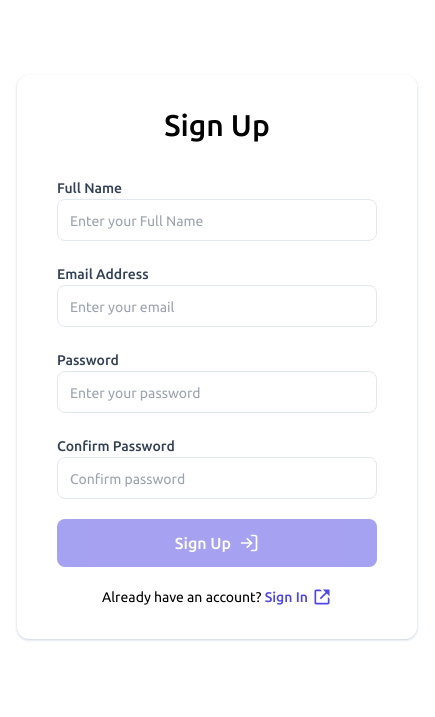
Test: Register Form: › - User Interaction › show errors messages for the inputs
Note: show error messages
In the field labelled "Full Name": coordinates (217, 220) [57, 199, 377, 241], type "john doe"
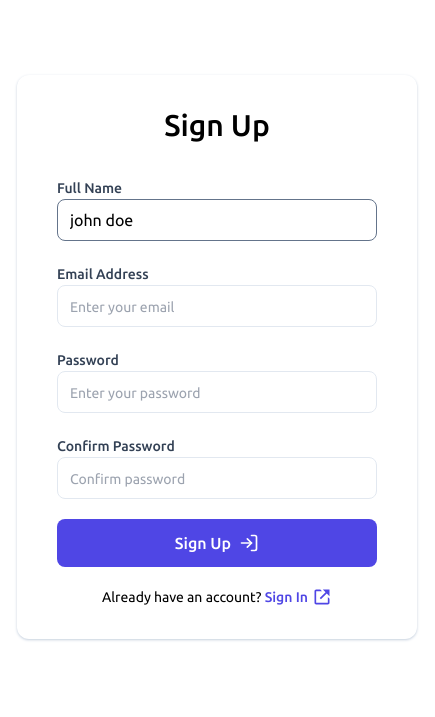
Clear the field labelled "Full Name": coordinates (217, 220) [57, 199, 377, 241]
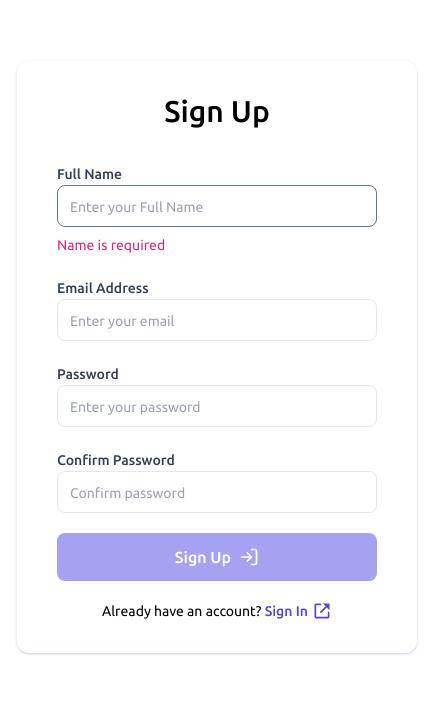
expect the text "Name is required" is shown: met, box [57, 237, 165, 253]
In the field labelled "Email Address": coordinates (217, 320) [57, 299, 377, 341], type "wrongemail"
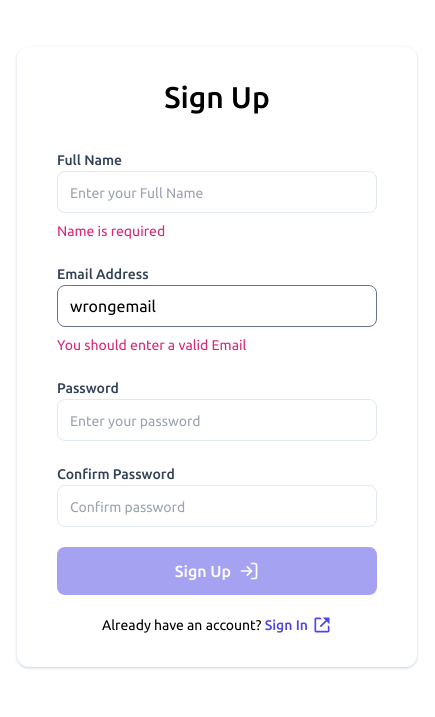
expect the text "You should enter a valid Email" is shown: met, box [57, 337, 246, 353]
In the password field labelled "Password": coordinates (217, 420) [57, 399, 377, 441], type "wrongpassword"
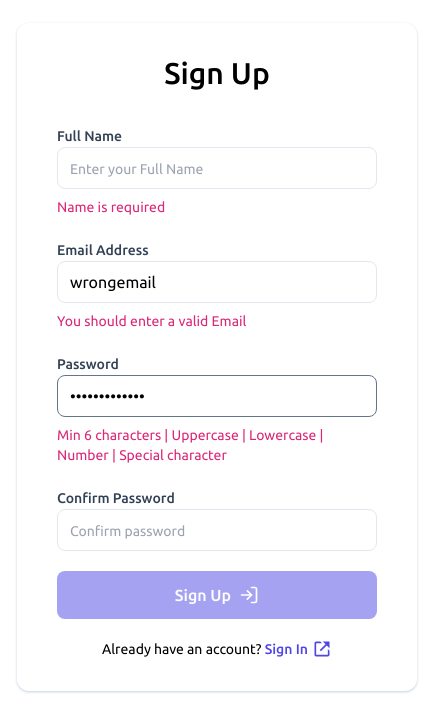
In the password field labelled "Confirm Password": coordinates (217, 530) [57, 509, 377, 551], type "wrongpassword1"
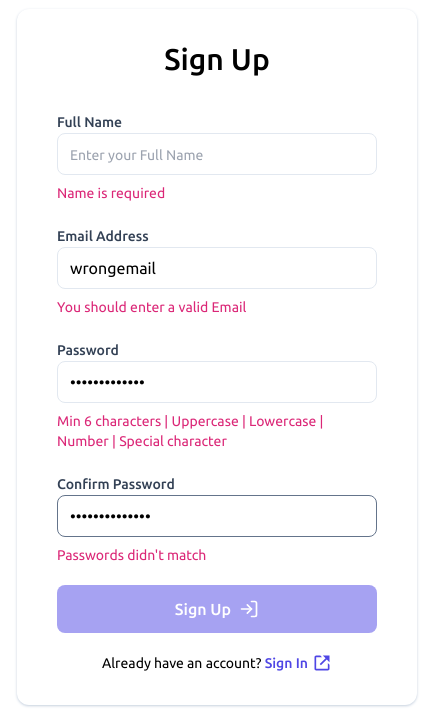
expect the text "Passwords didn't match" is shown: met, box [57, 547, 206, 563]
